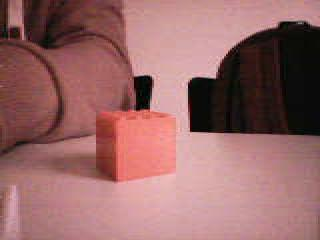legocube: (94, 108, 179, 183)
